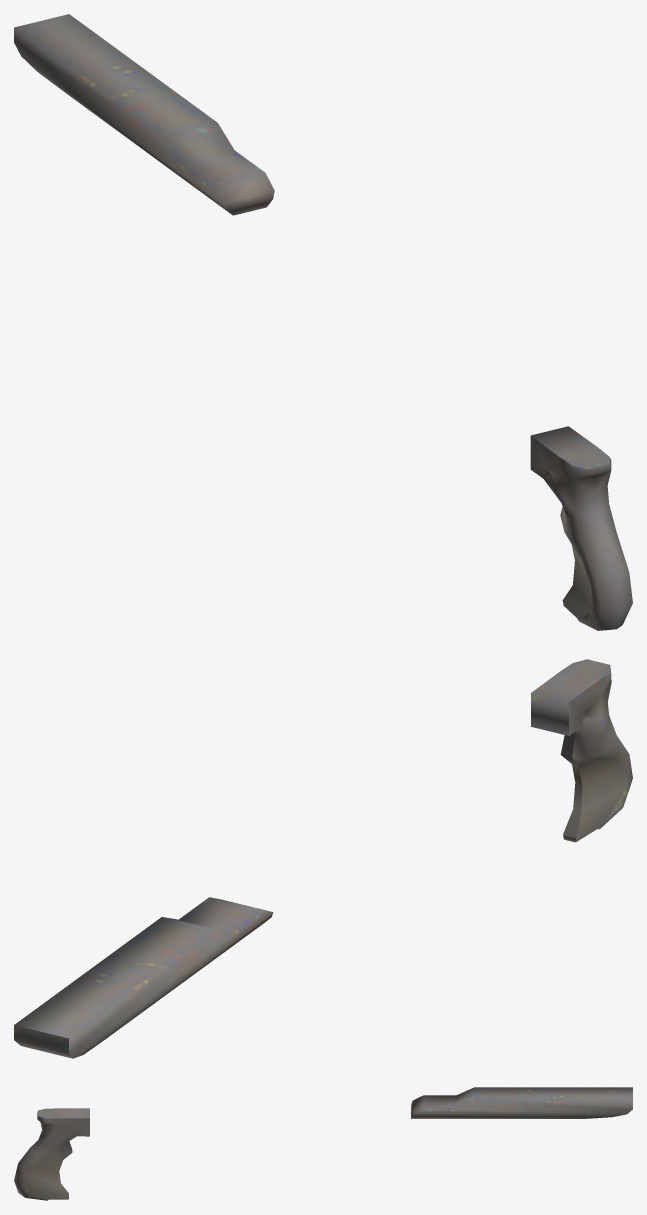
The model's file is grip3.obj.
The picture shows the model from 3 angles, top to bottom: view 1: azimuth 30°, elevation 25°; view 2: azimuth 150°, elevation 25°; view 3: azimuth 270°, elevation 25°; orthographic projection. The views are drawn at different scales.
Parts seen in each view (by area): view 1: grip3; view 2: grip3; view 3: grip3.
Part boxes in pixels (box(x1,y1,x2,y2)): grip3: box(14, 14, 632, 630); grip3: box(14, 659, 632, 1058); grip3: box(14, 1087, 632, 1200).
Size of the model in its own units: 3.76 by 12.75 by 68.61.
